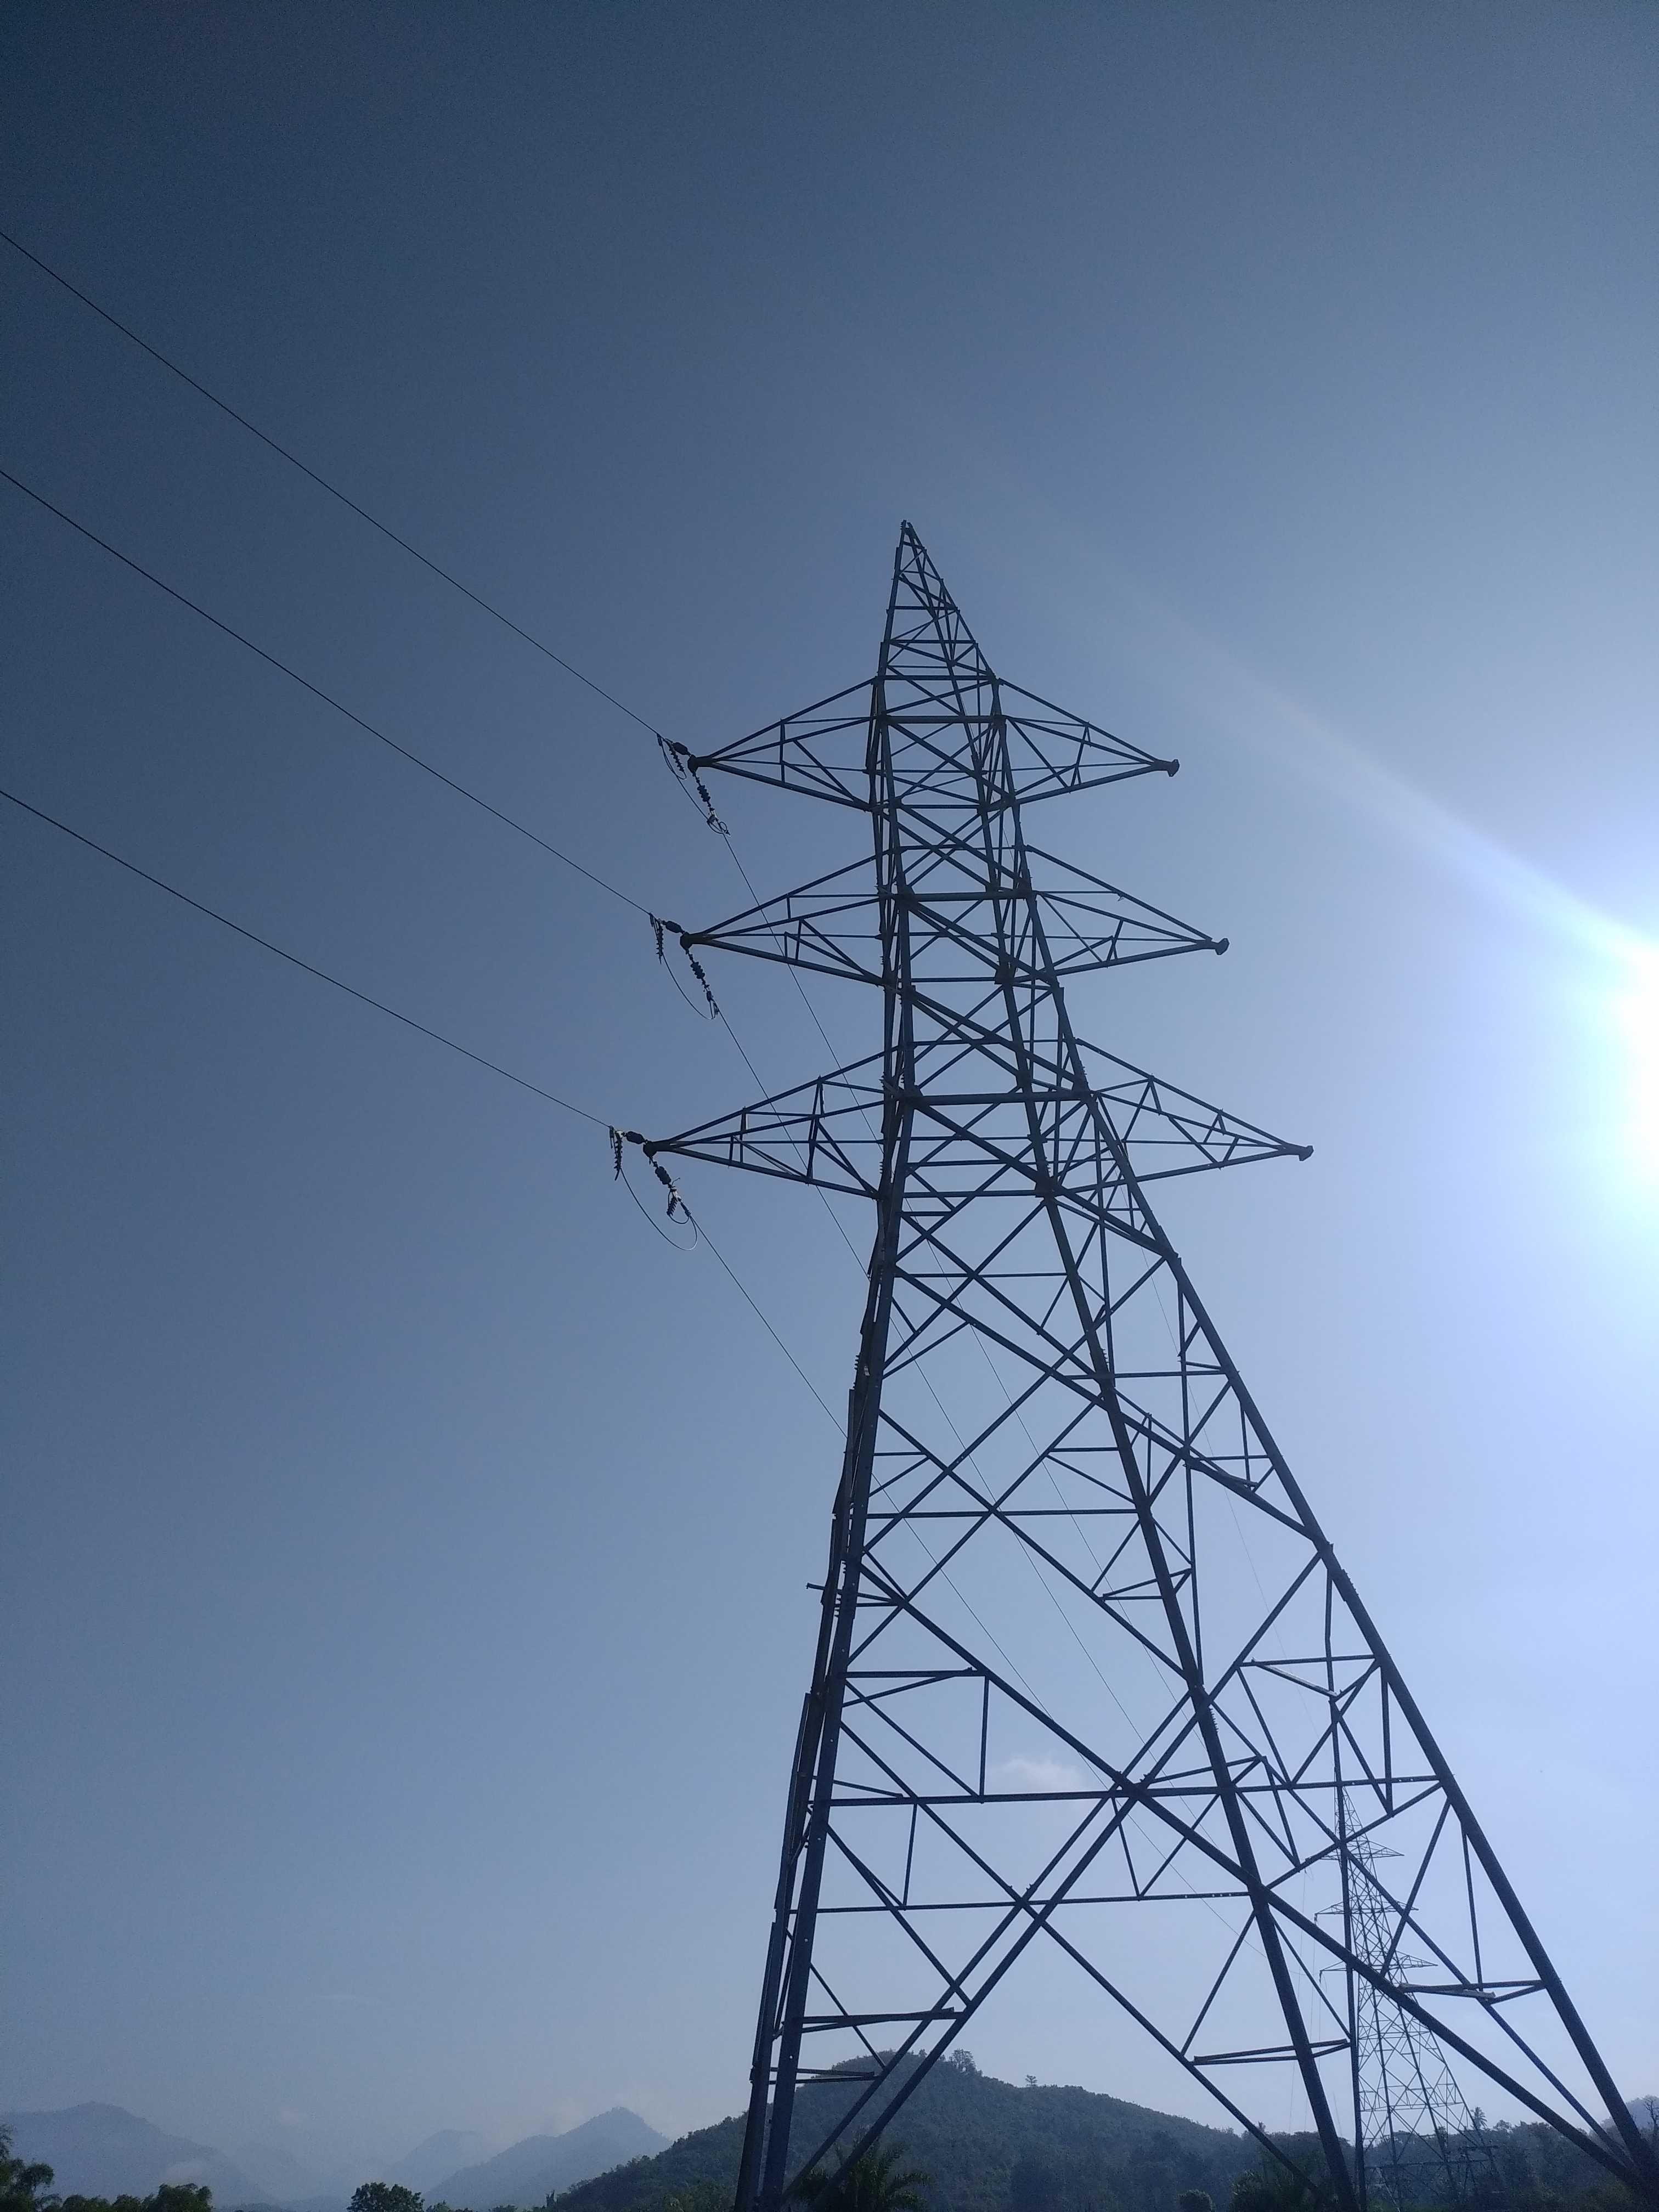GSM Antenna: (586, 481, 1626, 2148)
